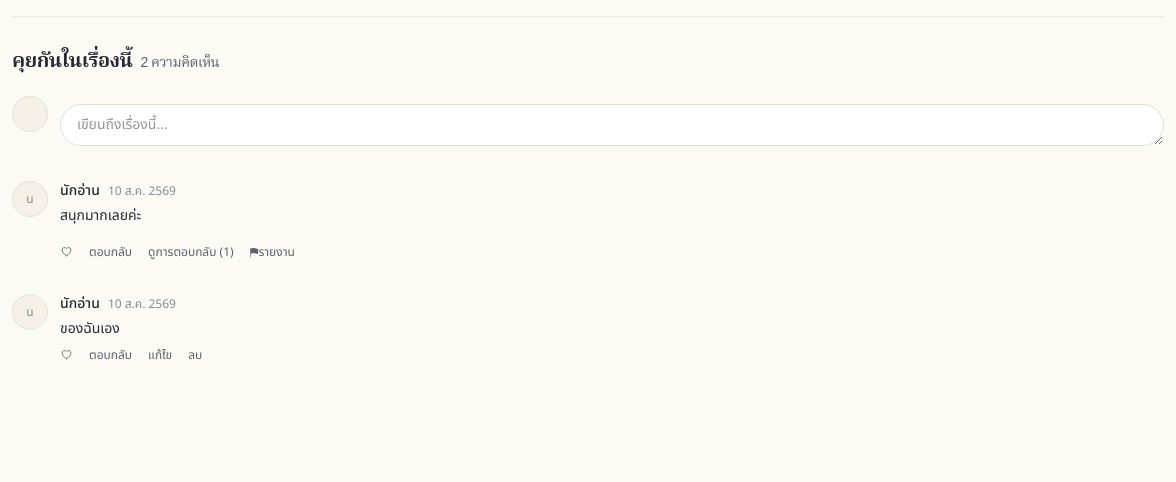
it: CommentSection › loads replies on demand and offers owner actions only on own comments
Expected: the text "สนุกมากเลยค่ะ" is shown, x1=60 y1=205 x2=141 y2=226
Expected: the number of buttons "แก้ไข" is 1, x1=148 y1=346 x2=172 y2=362
Click the button "ดูการตอบกลับ (1)": (191, 252) x1=148 y1=244 x2=234 y2=260
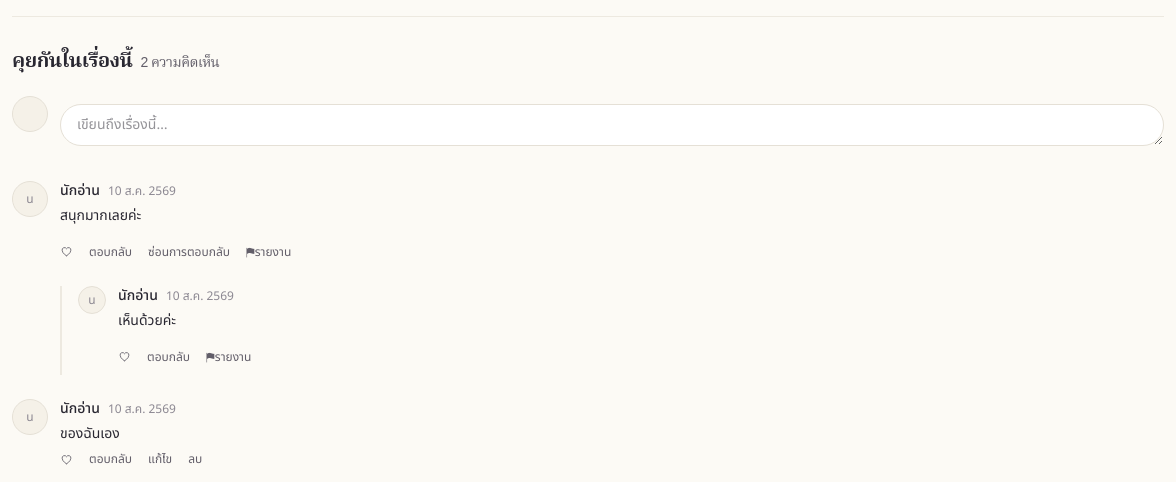
Now the text "เห็นด้วยค่ะ" is shown, box x1=118 y1=310 x2=176 y2=331
